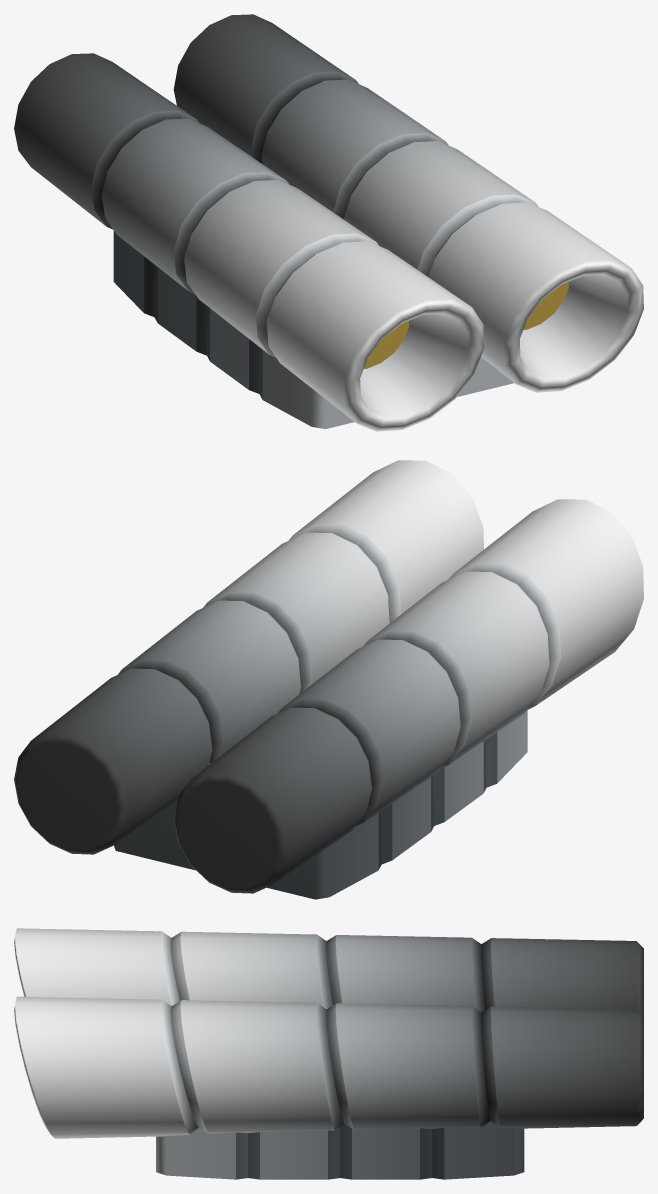
File: Car_02_Engine.fbx
3 renders of one model, top to bottom at view 1: azimuth 30°, elevation 25°; view 2: azimuth 150°, elevation 25°; view 3: azimuth 270°, elevation 25°, orthographic. The views are drawn at different scales.
Visible parts, largest first — view 1: Car_02_Engine; view 2: Car_02_Engine; view 3: Car_02_Engine.
Boxes of the visible parts, left/top/right/bottom form: Car_02_Engine: left=14, top=14, right=643, bottom=431; Car_02_Engine: left=14, top=460, right=643, bottom=899; Car_02_Engine: left=14, top=928, right=643, bottom=1179.
Bounding box in the file's own units: 53.65 × 111 × 31.21.
